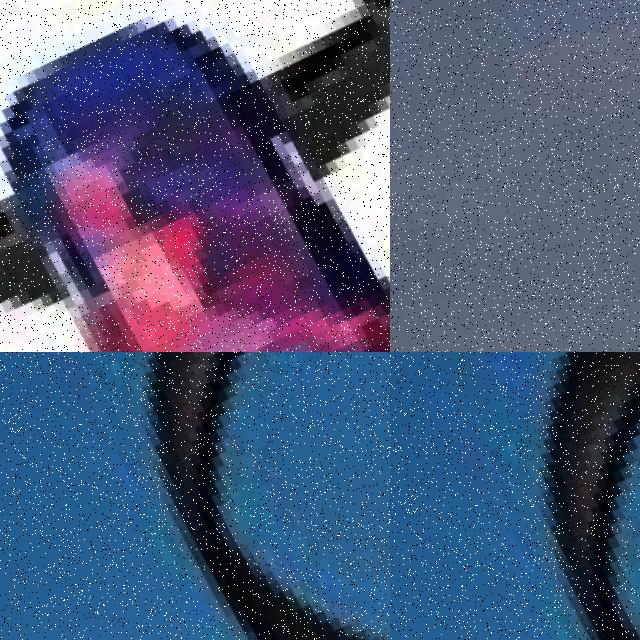drone: (0, 0, 390, 352), (0, 352, 390, 640), (390, 352, 640, 640)
